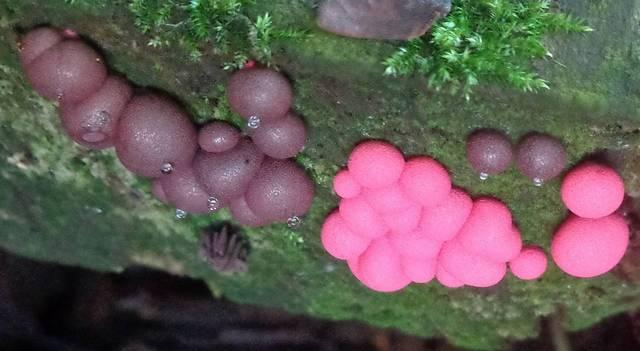poisonous_mushroom: (16, 24, 315, 228), (319, 137, 545, 293), (313, 0, 452, 42), (550, 213, 630, 278), (559, 160, 625, 219), (196, 218, 252, 275), (514, 131, 567, 185), (465, 127, 513, 178)
